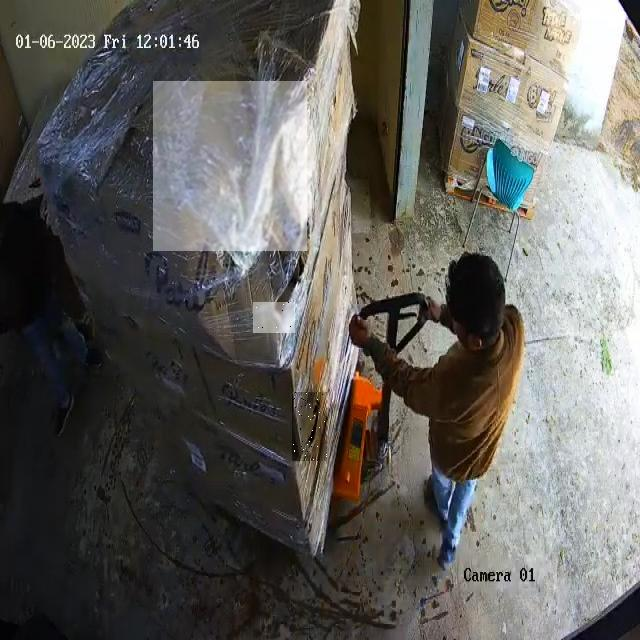leakage: (293, 392, 327, 461), (253, 303, 294, 333)
squeeze: (153, 82, 307, 250)
